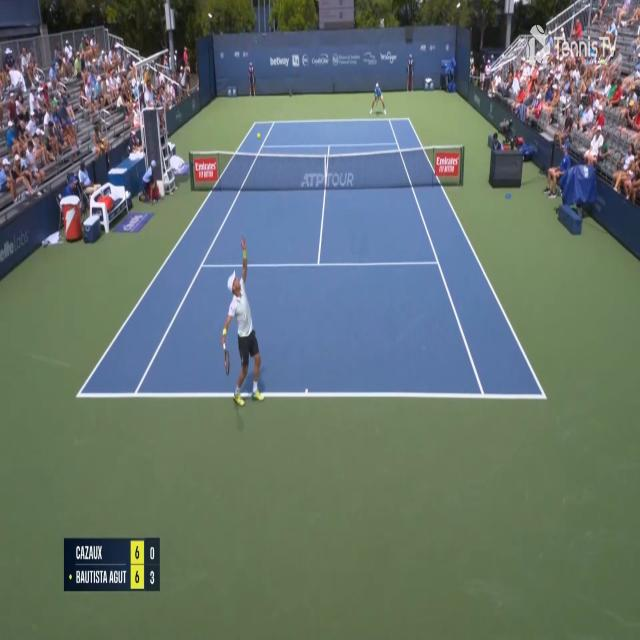tennis-player: (222, 245, 265, 413), (370, 80, 387, 115)
